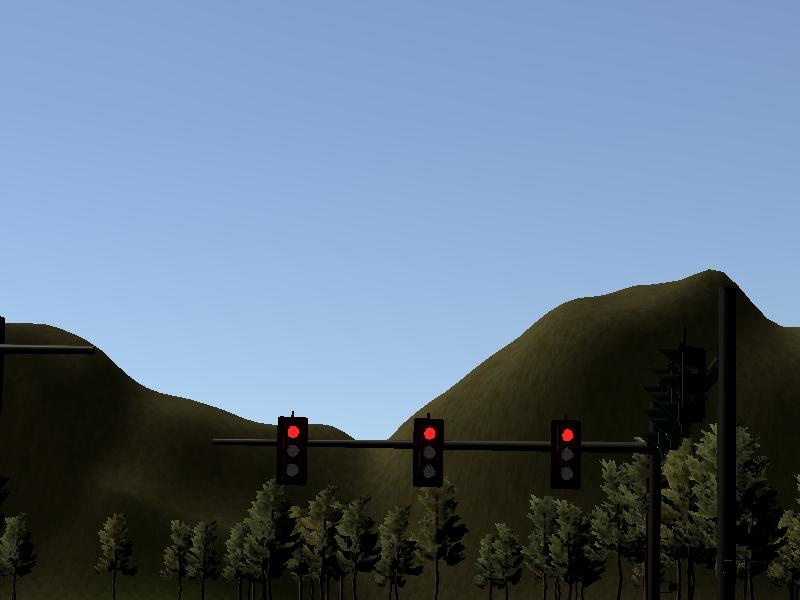traffic_light_red: (260, 416, 618, 488)
